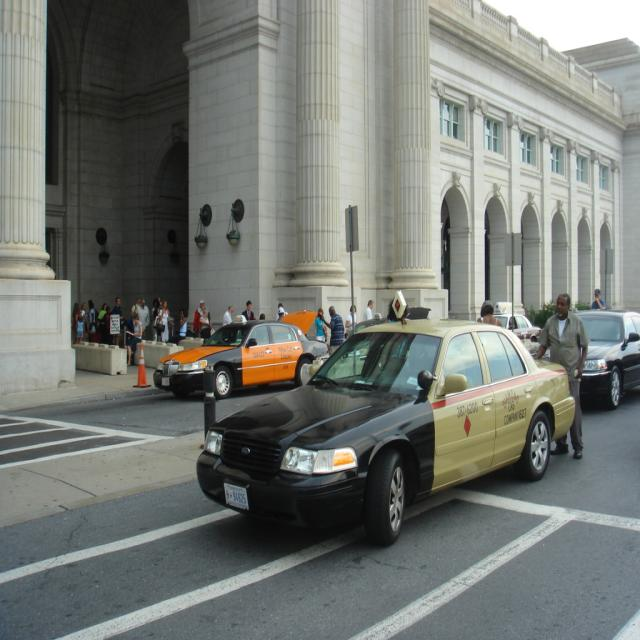car: (193, 312, 577, 546), (151, 308, 323, 396)
